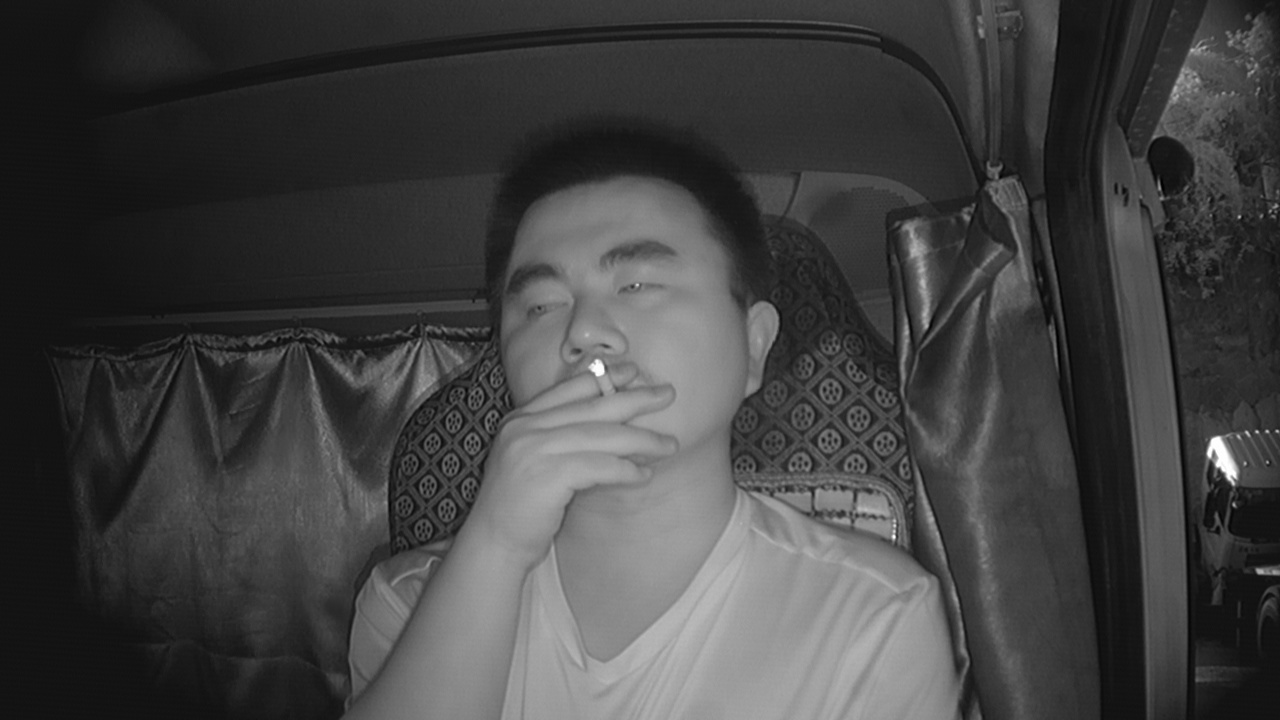hand: (474, 372, 680, 539)
